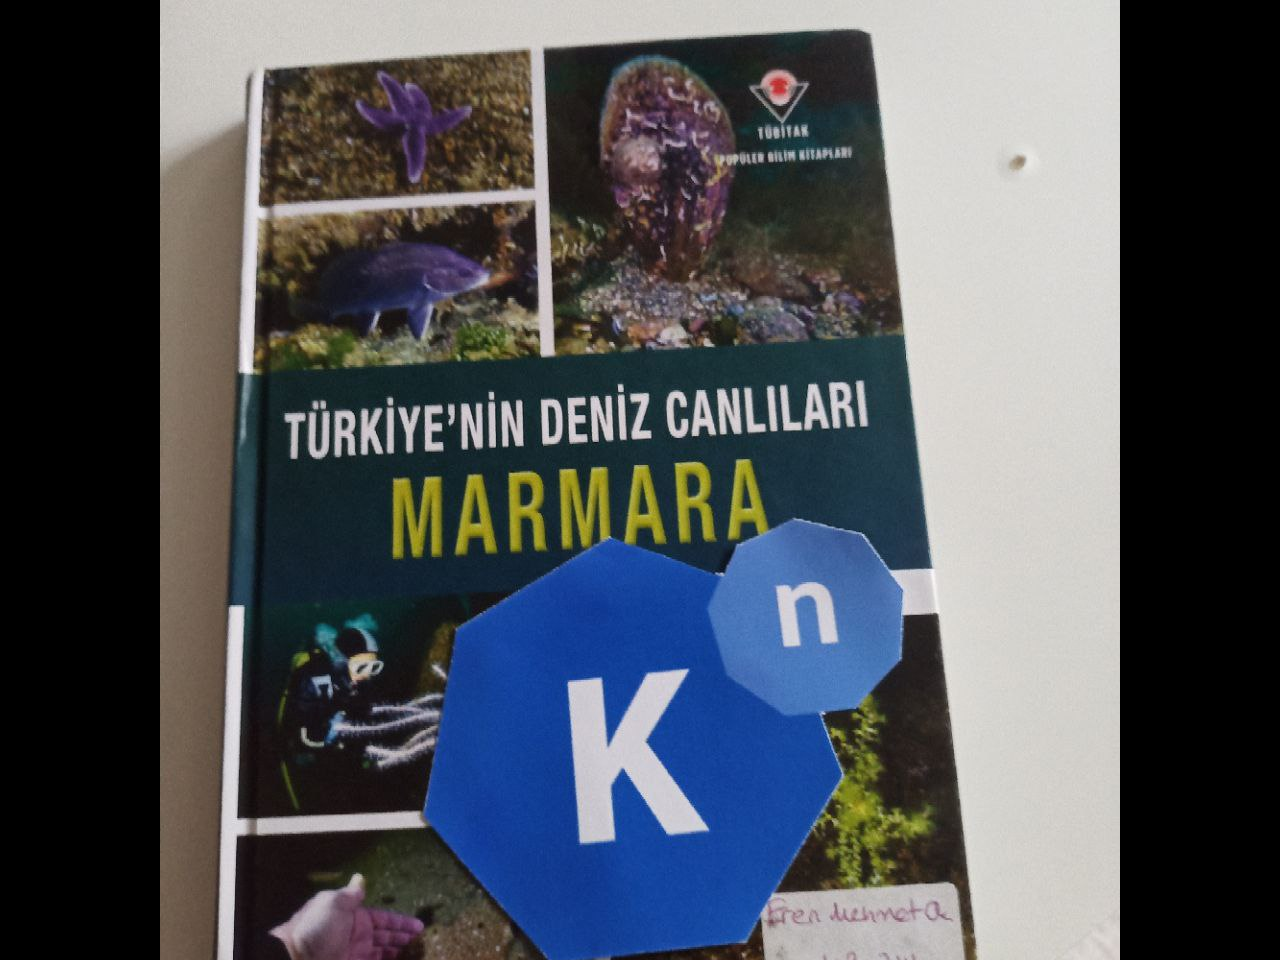knative: (424, 520, 905, 960)
